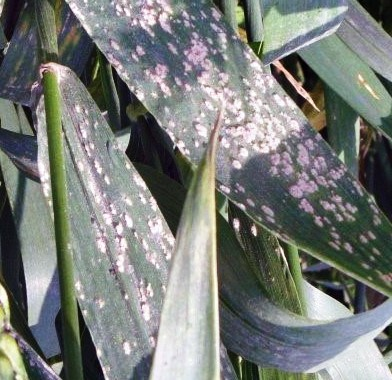Powdery Mildew: (124, 10, 389, 266)
